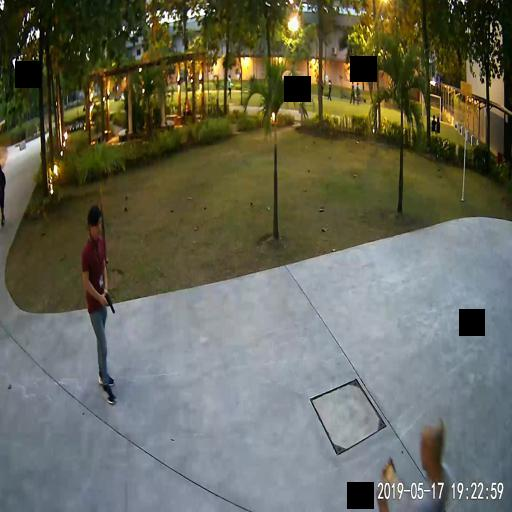Handgun: (103, 291, 113, 313)
